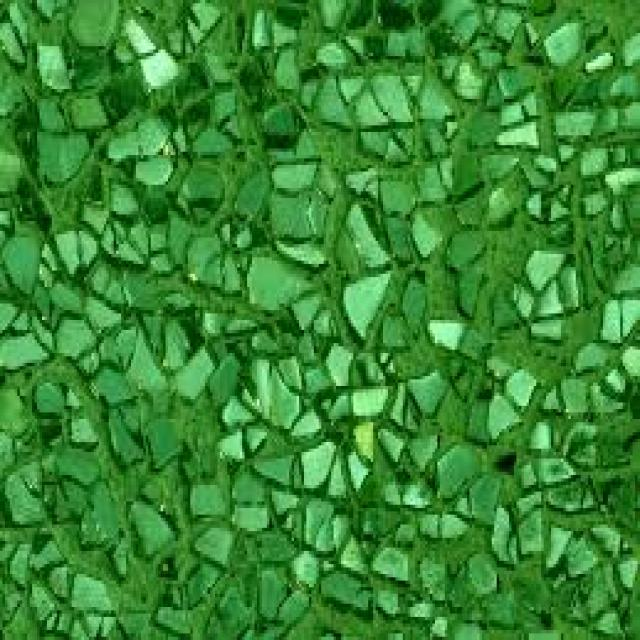glass: (0, 0, 638, 637), (5, 205, 311, 637), (279, 33, 628, 254), (203, 360, 428, 637), (435, 53, 593, 333), (373, 221, 534, 429), (109, 60, 279, 248), (455, 469, 638, 637), (324, 195, 383, 274), (128, 495, 183, 561), (72, 468, 119, 541), (339, 261, 386, 333), (163, 333, 215, 396), (265, 181, 307, 241), (309, 66, 346, 129), (482, 389, 526, 439), (405, 363, 445, 416), (144, 409, 181, 465), (104, 409, 143, 462), (269, 148, 319, 188), (497, 353, 529, 406), (319, 337, 348, 390), (136, 43, 178, 79), (102, 178, 144, 211), (136, 106, 165, 152), (346, 380, 383, 413), (126, 155, 173, 175), (314, 155, 336, 185)
